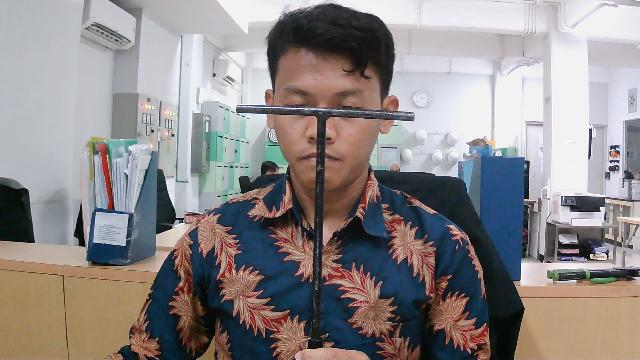kunci_t: (224, 93, 420, 360)
